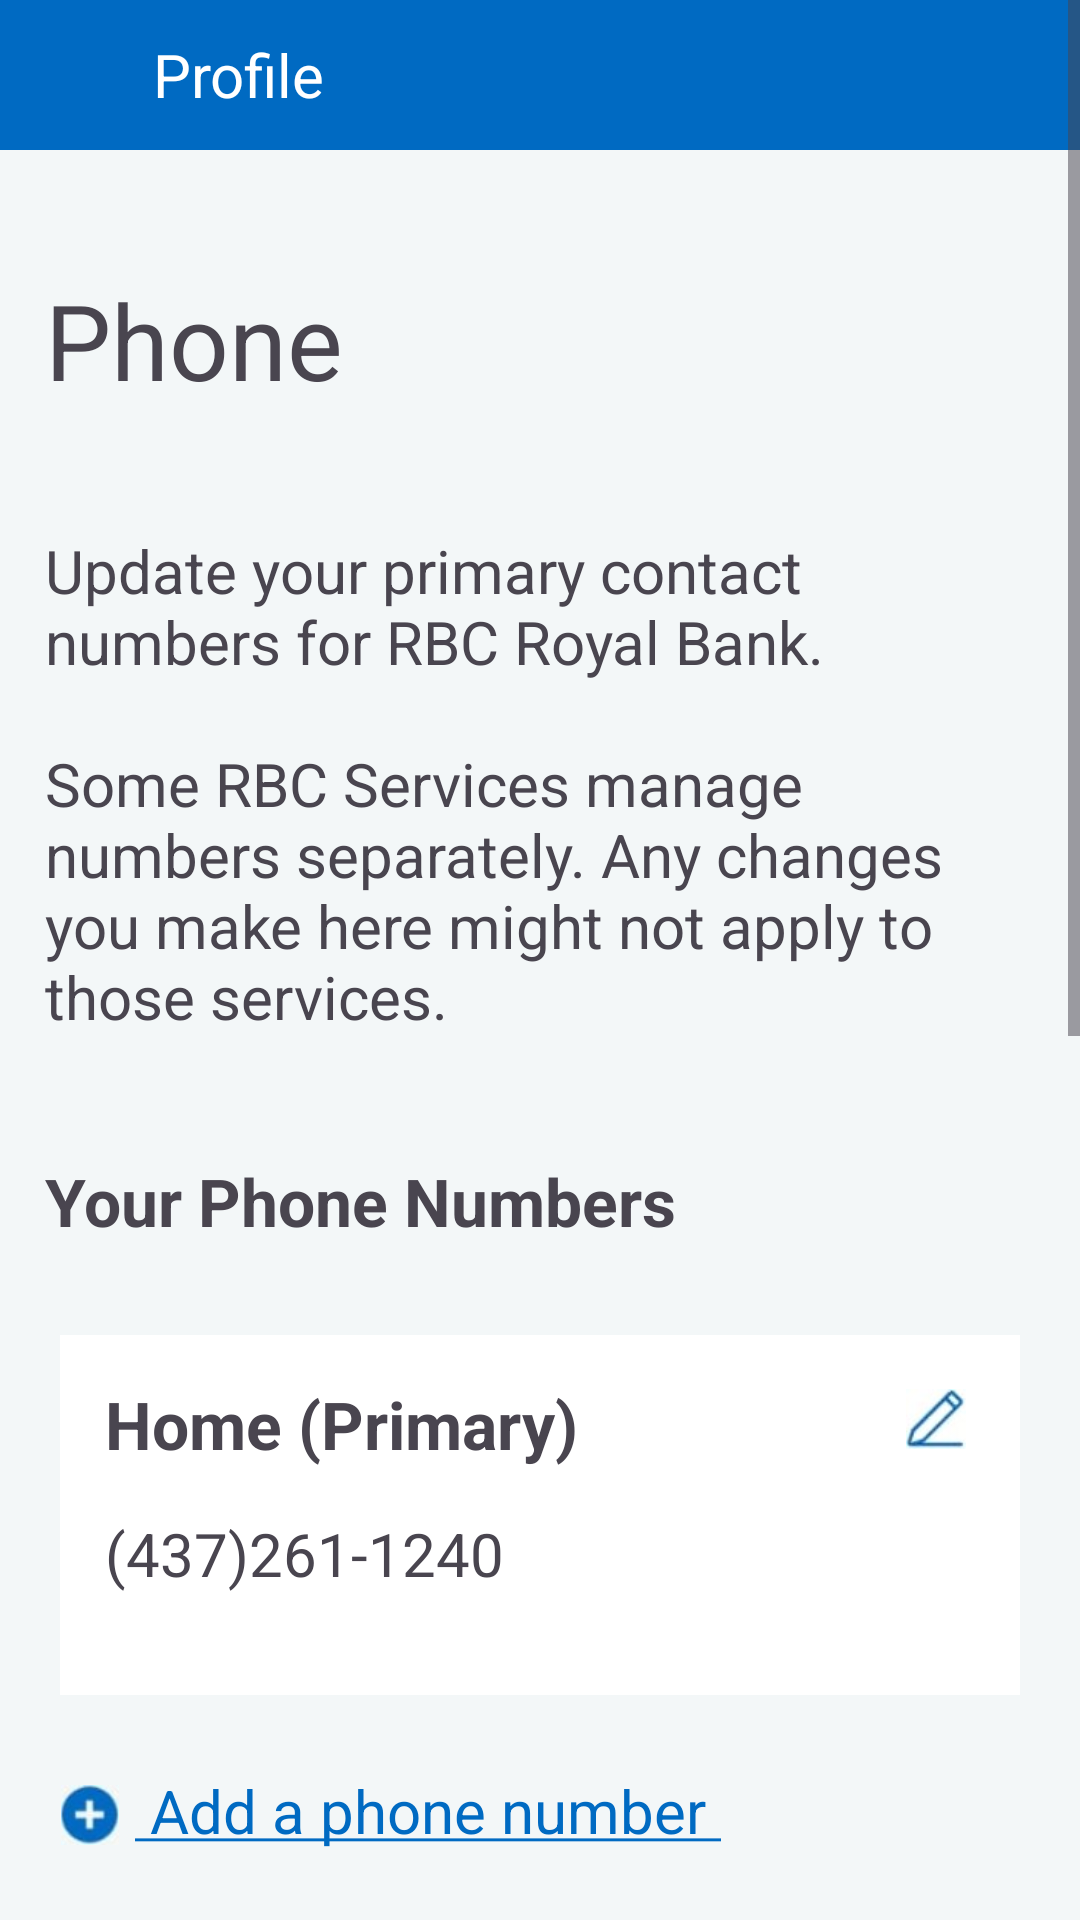

Named icons in this screenshot (1080*1920) and their centers, [x,y]:
edit pencil: [935,1419]
plus: [90,1815]
